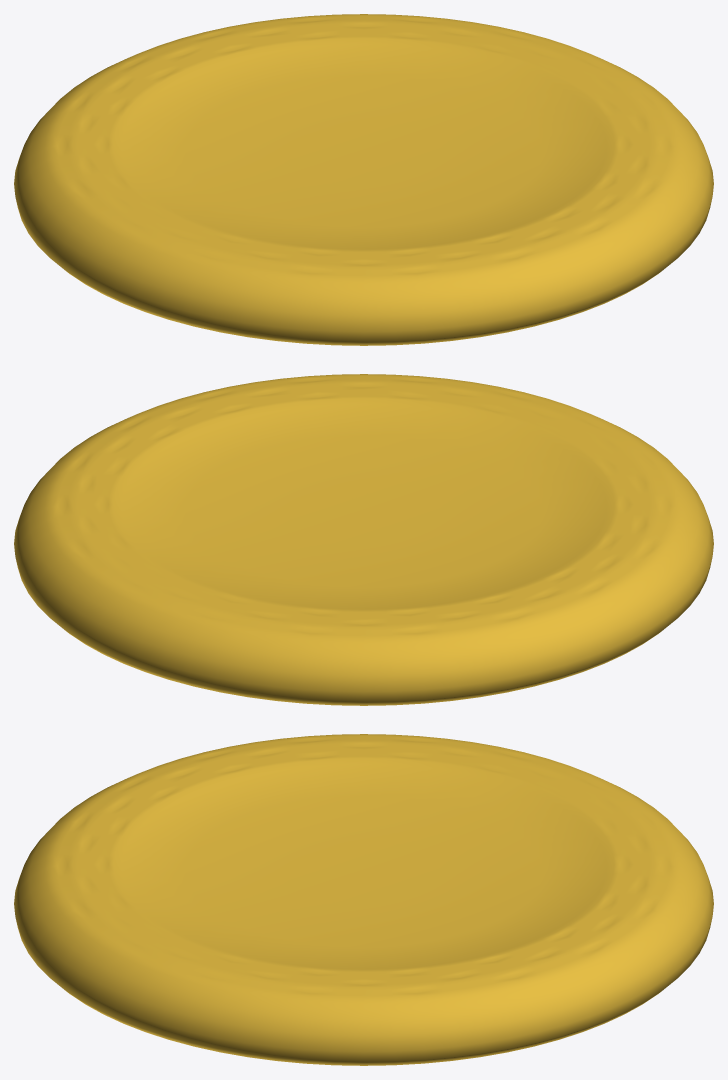
The model's file is A-NEW-20261026-FLYING-DISC-001_LOD2_R1.fbx.
3 renders of one model, top to bottom at view 1: azimuth 30°, elevation 25°; view 2: azimuth 150°, elevation 25°; view 3: azimuth 270°, elevation 25°, orthographic.
Parts seen in each view (by area): view 1: hollow flying disc; view 2: hollow flying disc; view 3: hollow flying disc.
Part boxes in pixels (x1,y1,x2,y2): hollow flying disc: (14, 14, 713, 345); hollow flying disc: (14, 374, 713, 705); hollow flying disc: (14, 734, 713, 1065).
Size of the model in its own units: 27.4 by 2.5 by 27.4.
